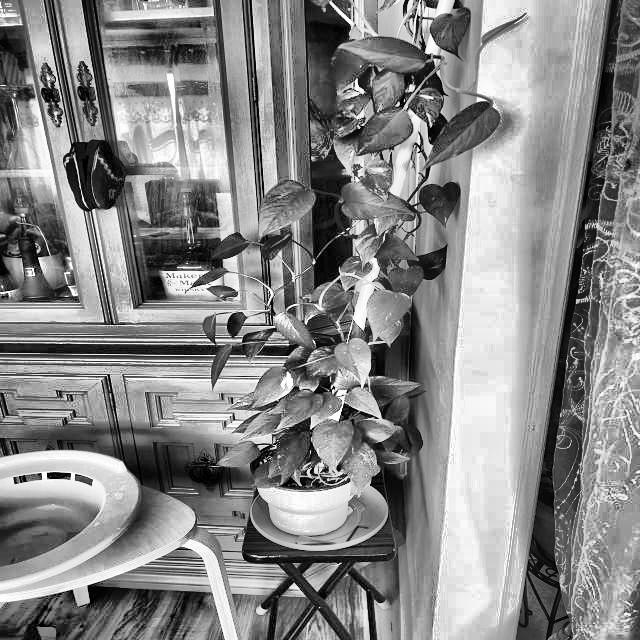plants: (242, 49, 442, 550)
